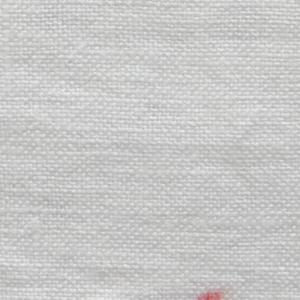Stain: (194, 286, 233, 300)
